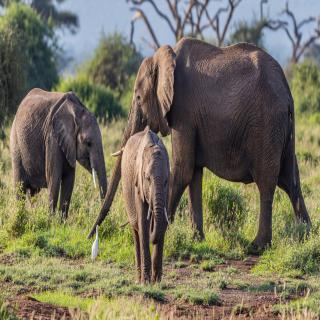Elephant: (90, 28, 314, 256), (9, 78, 110, 227), (121, 124, 171, 290)
